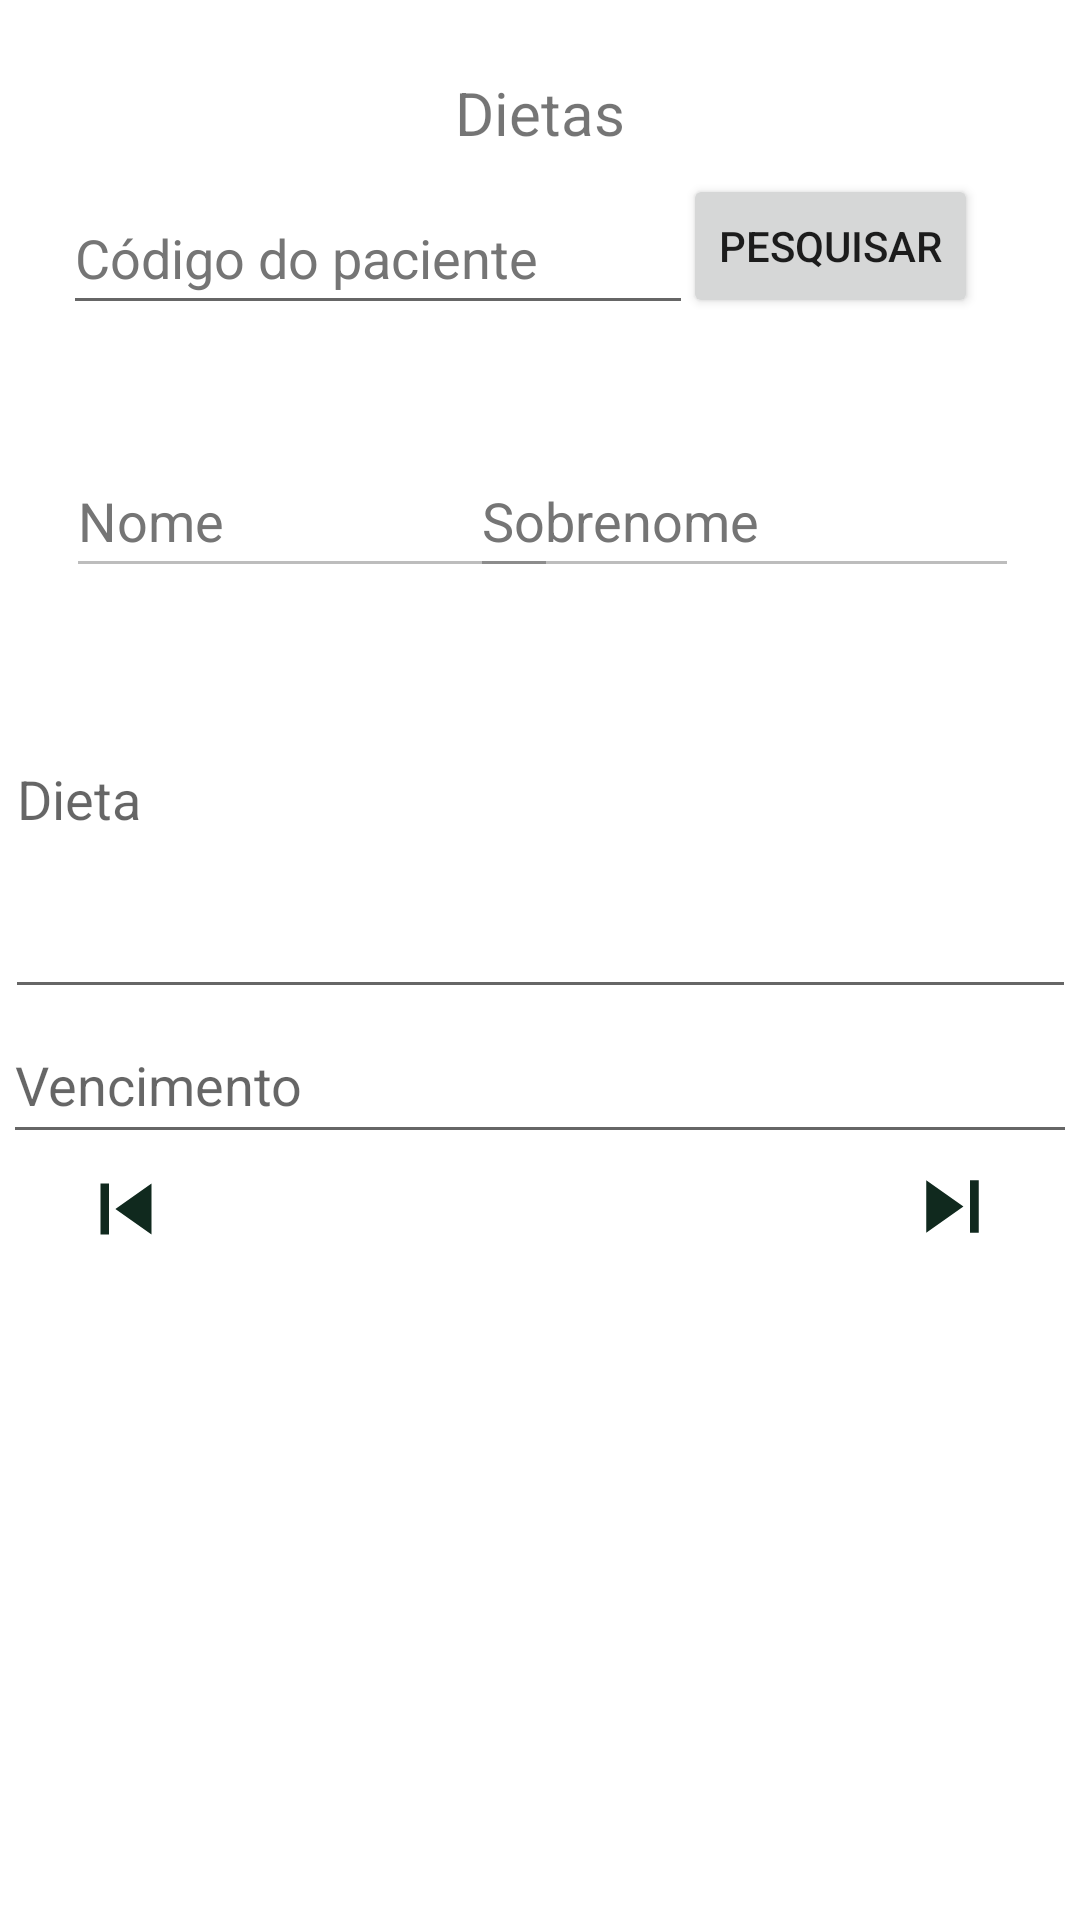

Icon click points for this 1080x1920 phone screenshot, format (x,y):
next: (952,1206)
previous: (126,1209)
